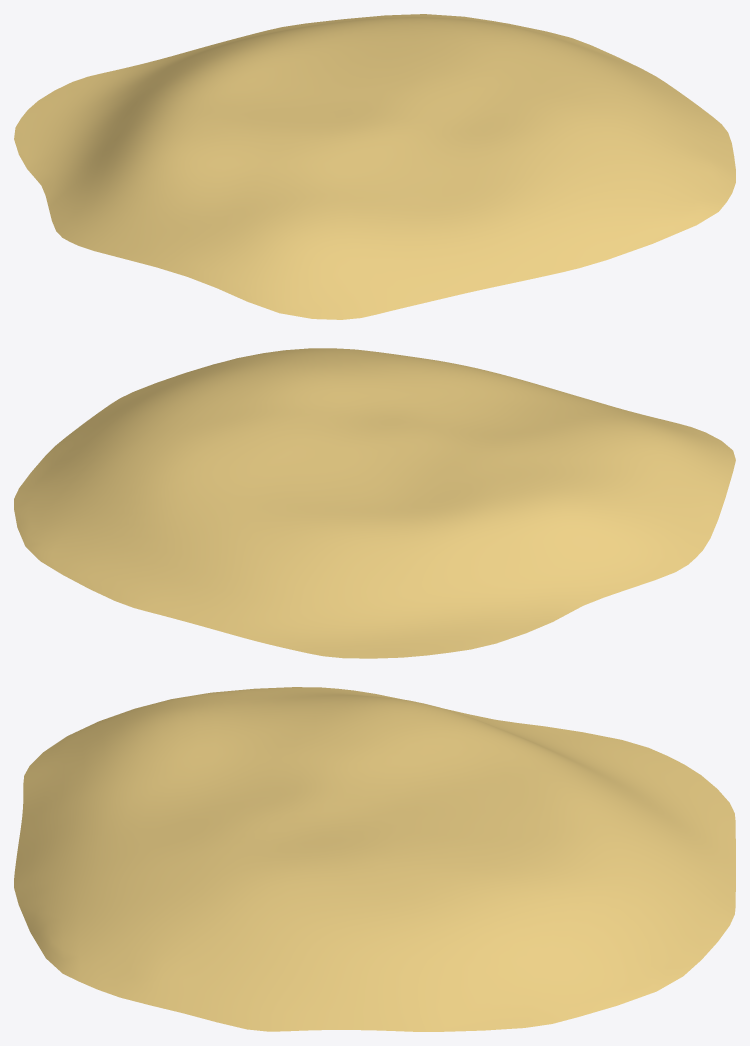
Rendered from desert_01.glb.
The picture shows the model from 3 angles, top to bottom: view 1: azimuth 30°, elevation 25°; view 2: azimuth 150°, elevation 25°; view 3: azimuth 270°, elevation 25°; orthographic projection. The views are drawn at different scales.
Visible parts, largest first — view 1: Plane; view 2: Plane; view 3: Plane.
Part boxes in pixels (bbox=[...]): Plane: bbox=[14, 14, 735, 319]; Plane: bbox=[14, 348, 735, 658]; Plane: bbox=[14, 687, 735, 1031].
Size of the model in its own units: 37.62 by 4.03 by 34.66.
